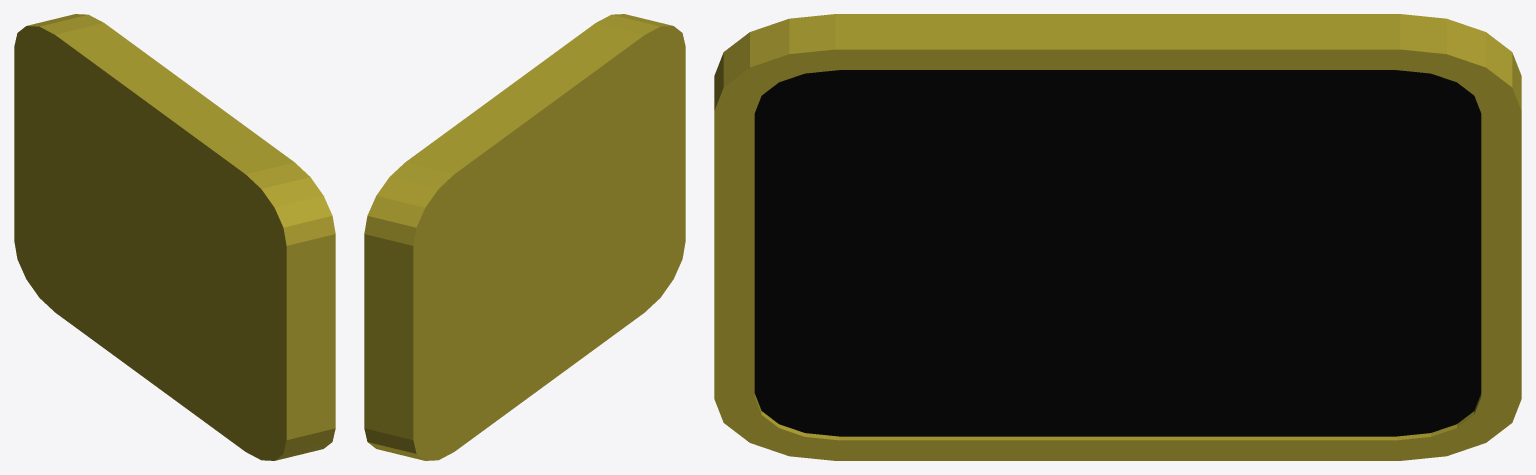
File: screen.fbx
The picture shows the model from 3 angles, left to right: view 1: azimuth 30°, elevation 25°; view 2: azimuth 150°, elevation 25°; view 3: azimuth 270°, elevation 25°; orthographic projection. The views are drawn at different scales.
Parts seen in each view (by area): view 1: Cube; view 2: Cube; view 3: Cube.
Part boxes in pixels (x1,y1,x2,y2): Cube: [14, 14, 335, 460]; Cube: [364, 14, 685, 460]; Cube: [714, 14, 1521, 460].
Size of the model in its own units: 48 by 27 by 5.
